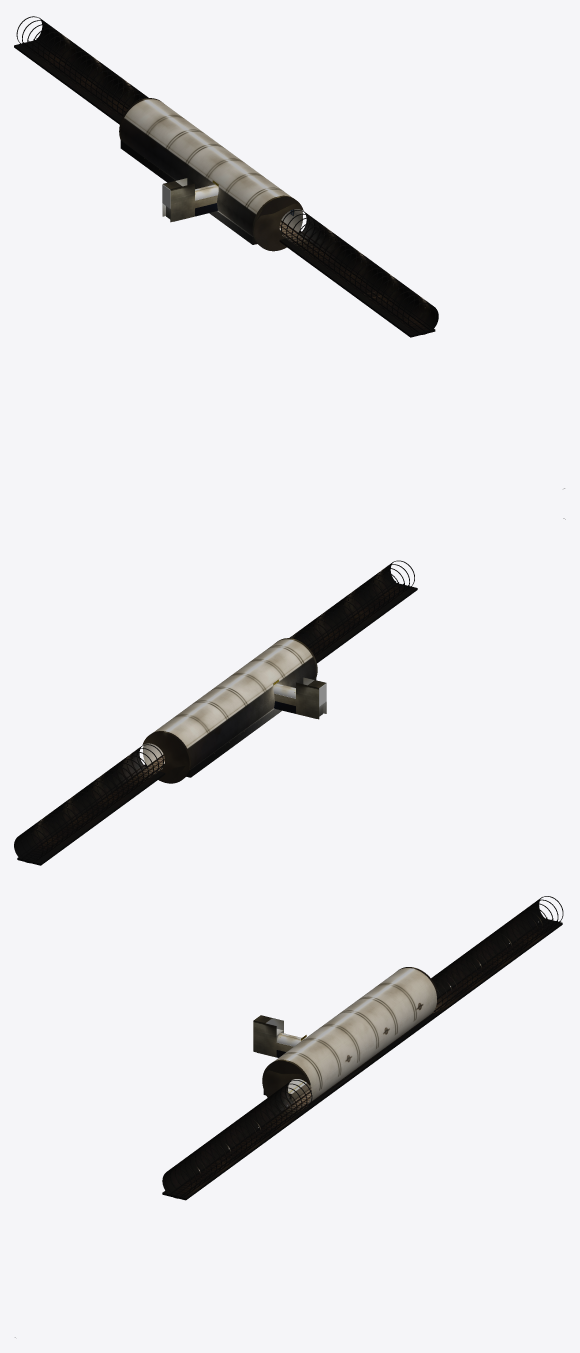
Rendered from station_baked.glb.
3 renders of one model, top to bottom at view 1: azimuth 30°, elevation 25°; view 2: azimuth 150°, elevation 25°; view 3: azimuth 330°, elevation 25°, orthographic. The views are drawn at different scales.
Visible parts, largest first — view 1: BK_Shell, BK_Tunnel, BK_Track, BK_Floor; view 2: BK_Shell, BK_Tunnel, BK_Track, BK_Floor; view 3: BK_Shell, BK_Tunnel, BK_Track.
Boxes of the visible parts, x1,y1,x2,y2 form: BK_Shell: (119, 98, 303, 251); BK_Tunnel: (16, 16, 438, 334); BK_Track: (14, 38, 435, 337); BK_Floor: (120, 140, 282, 244); BK_Shell: (142, 638, 326, 783); BK_Tunnel: (14, 560, 414, 863); BK_Track: (17, 581, 417, 865); BK_Floor: (162, 678, 323, 777); BK_Shell: (253, 967, 437, 1104); BK_Tunnel: (162, 896, 563, 1198); BK_Track: (162, 917, 562, 1200).
Bounding box in the file's own units: 13.2 × 10.4 × 125.
7 materials, 5 textured.
